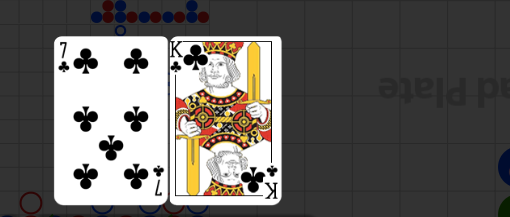7C: (151, 163, 165, 198)
KC: (261, 159, 280, 201)
